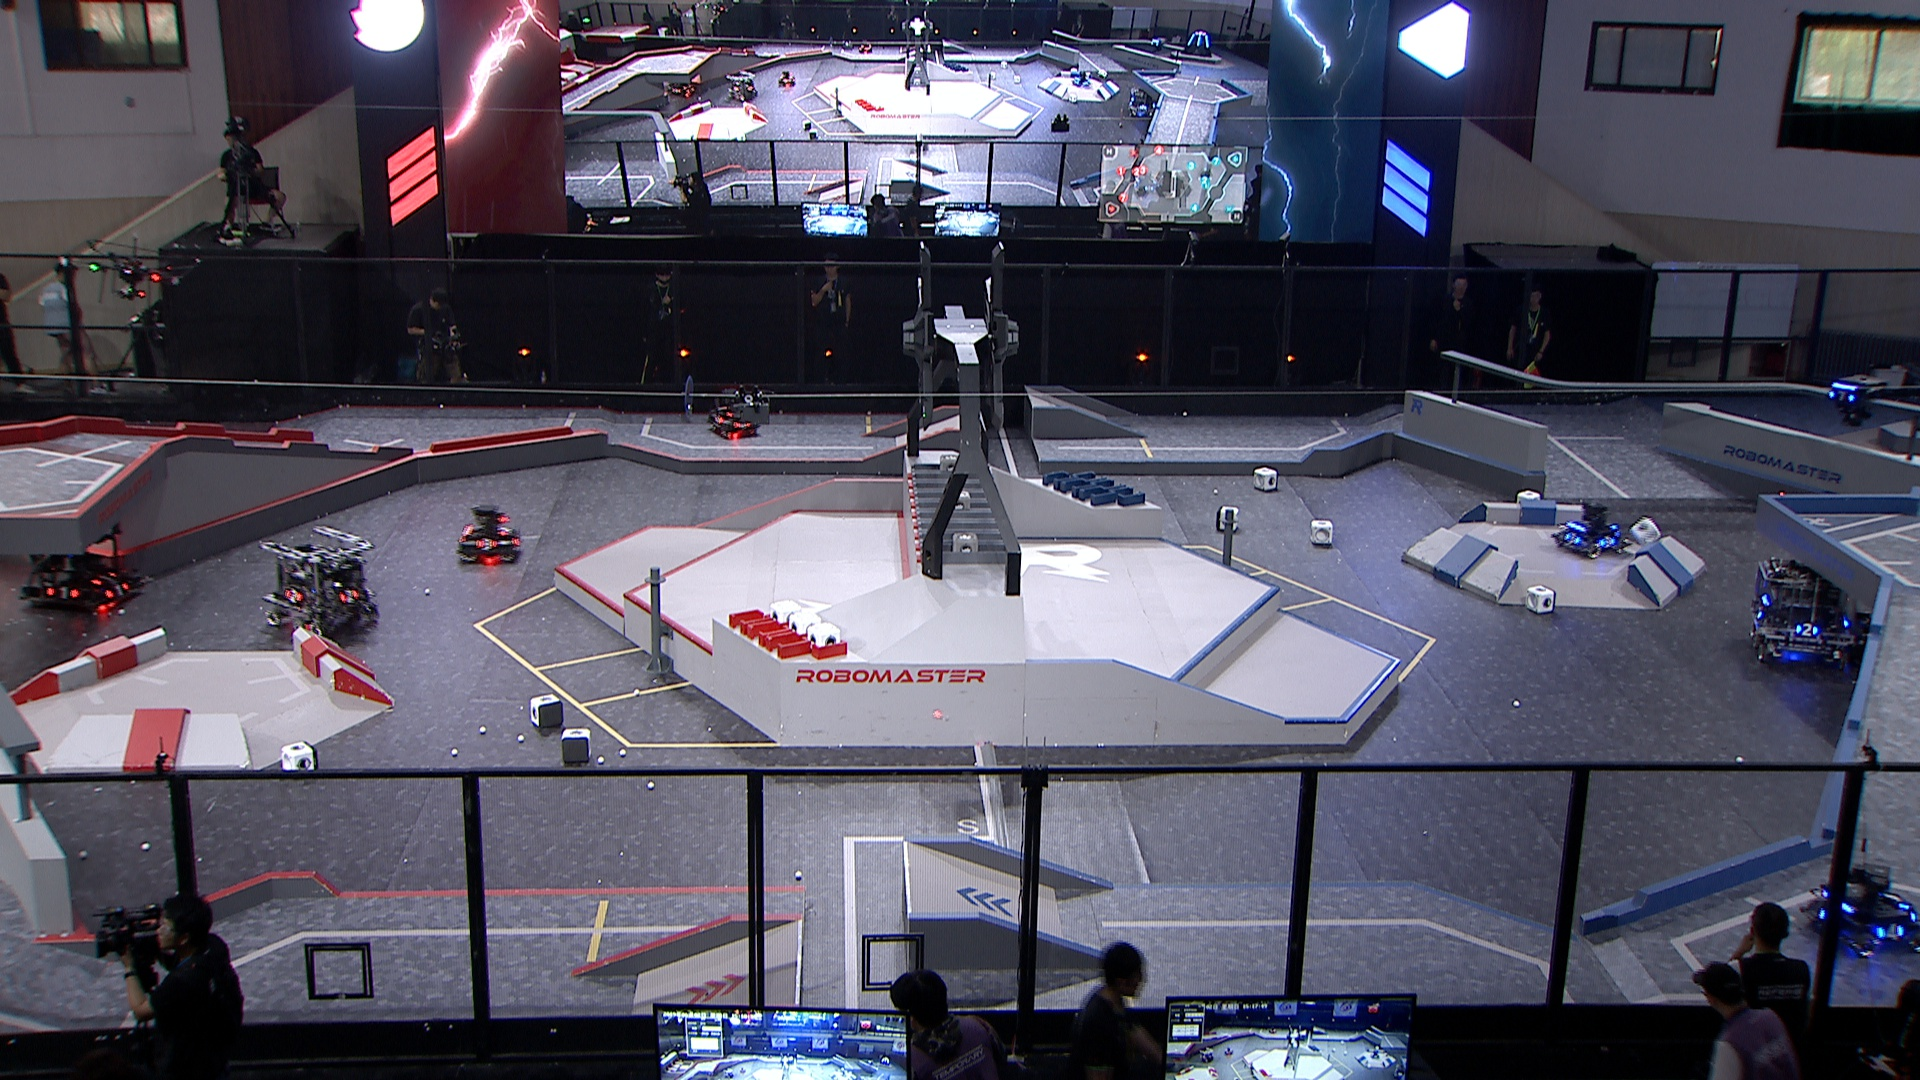armor: (1873, 922, 1905, 944), (1879, 891, 1912, 913), (102, 579, 131, 600), (86, 570, 117, 588), (44, 585, 80, 599), (335, 588, 359, 607), (281, 585, 305, 604), (1826, 389, 1855, 404), (1795, 622, 1821, 638), (475, 535, 498, 553), (1596, 535, 1618, 551), (1563, 531, 1582, 546), (495, 524, 513, 535), (712, 413, 727, 425)
car: (258, 524, 378, 645), (20, 509, 144, 618), (1797, 858, 1920, 959), (1749, 555, 1858, 666), (1549, 496, 1629, 562), (456, 502, 524, 564), (708, 392, 761, 436)
ignore: (723, 69, 760, 102), (1182, 26, 1211, 58), (1127, 86, 1155, 116), (662, 76, 694, 98)
watcher: (1825, 368, 1878, 427)
